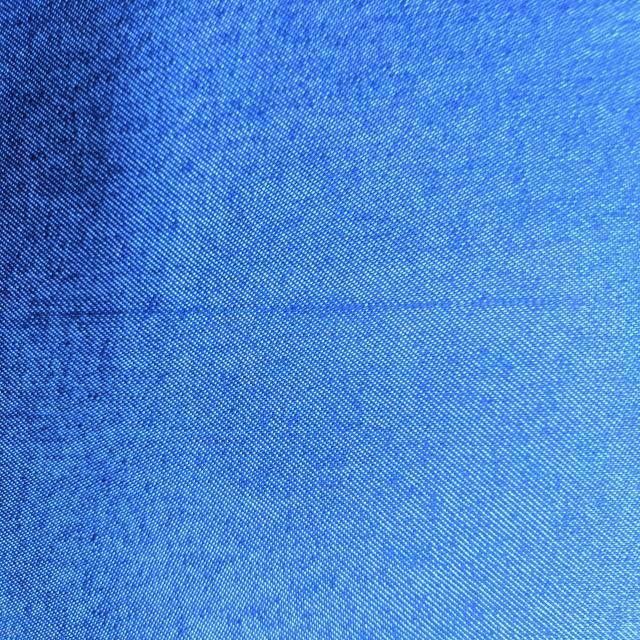Line: (32, 293, 579, 321)
